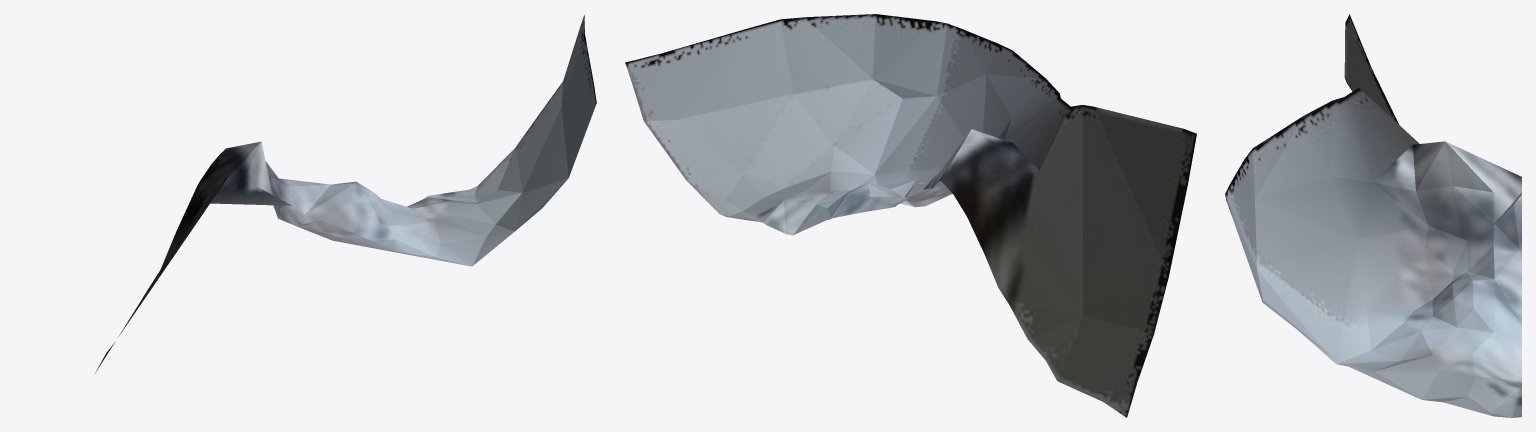
3 views of the same model, side by side, from view 1: azimuth 30°, elevation 25°; view 2: azimuth 150°, elevation 25°; view 3: azimuth 270°, elevation 25° (orthographic). The views are drawn at different scales.
Size of the model in its own units: 1.46 by 0.6483 by 0.608.
1 material, 1 textured.
